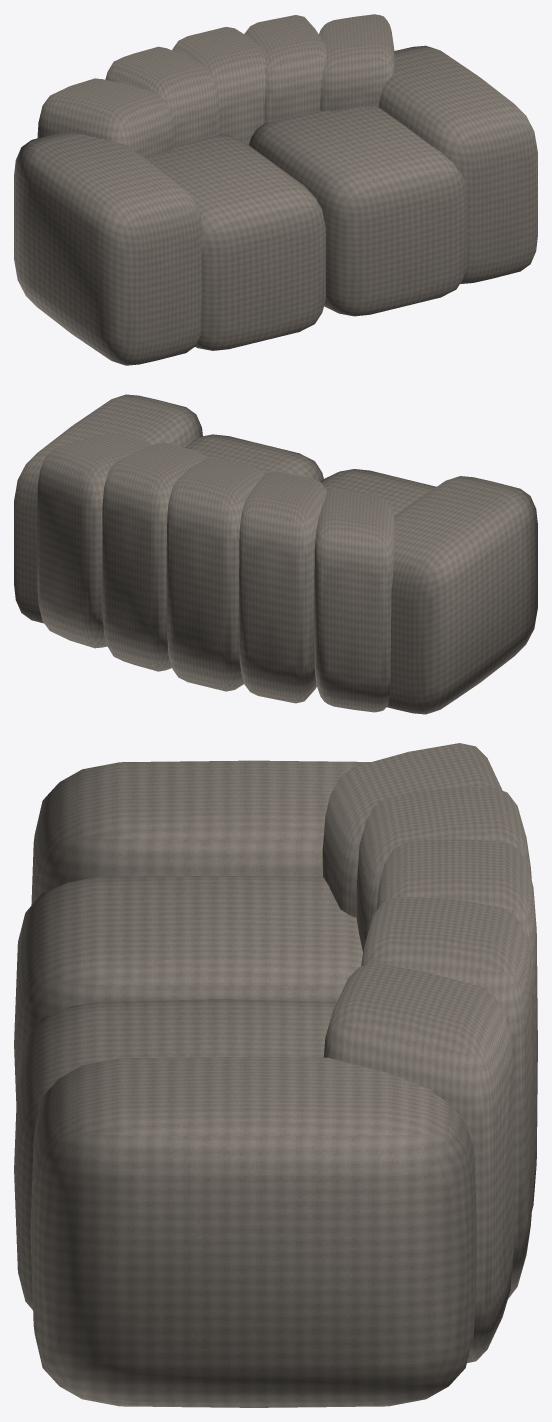
The picture shows the model from 3 angles, top to bottom: view 1: azimuth 30°, elevation 25°; view 2: azimuth 150°, elevation 25°; view 3: azimuth 270°, elevation 25°; orthographic projection. The views are drawn at different scales.
Visible parts, largest first — view 1: 3 left_armrest, 2 right_seat, 1 left_seat, 4 right_armrest, 5 backrest_left_outer, 9 backrest_right_outer, 6 backrest_left_inner, 7 backrest, 8 backrest_right_inner; view 2: 3 left_armrest, 6 backrest_left_inner, 7 backrest, 5 backrest_left_outer, 8 backrest_right_inner, 9 backrest_right_outer, 4 right_armrest, 2 right_seat, 1 left_seat; view 3: 4 right_armrest, 1 left_seat, 3 left_armrest, 9 backrest_right_outer, 2 right_seat, 8 backrest_right_inner, 7 backrest, 5 backrest_left_outer, 6 backrest_left_inner.
Boxes of the visible parts, <box> form: 3 left_armrest: <box>14,132,203,365</box>; 2 right_seat: <box>248,107,467,316</box>; 1 left_seat: <box>148,134,325,350</box>; 4 right_armrest: <box>378,45,537,283</box>; 5 backrest_left_outer: <box>37,78,175,159</box>; 9 backrest_right_outer: <box>319,14,394,111</box>; 6 backrest_left_inner: <box>105,46,220,145</box>; 7 backrest: <box>172,27,265,144</box>; 8 backrest_right_inner: <box>244,15,327,123</box>; 3 left_armrest: <box>386,476,537,714</box>; 6 backrest_left_inner: <box>239,471,327,703</box>; 7 backrest: <box>166,457,264,691</box>; 5 backrest_left_outer: <box>314,489,394,712</box>; 8 backrest_right_inner: <box>102,442,208,671</box>; 9 backrest_right_outer: <box>37,432,152,648</box>; 4 right_armrest: <box>14,394,202,623</box>; 2 right_seat: <box>184,434,323,481</box>; 1 left_seat: <box>320,469,436,516</box>; 4 right_armrest: <box>30,1056,476,1407</box>; 1 left_seat: <box>14,875,362,1103</box>; 3 left_armrest: <box>31,760,370,905</box>; 9 backrest_right_outer: <box>323,963,513,1363</box>; 2 right_seat: <box>14,999,336,1309</box>; 8 backrest_right_inner: <box>361,897,533,1298</box>; 7 backrest: <box>377,838,537,1210</box>; 5 backrest_left_outer: <box>322,743,502,917</box>; 6 backrest_left_inner: <box>356,787,531,951</box>.
Bounding box in the file's own units: 1.52 × 0.7112 × 0.889.
1 material, 1 textured.
